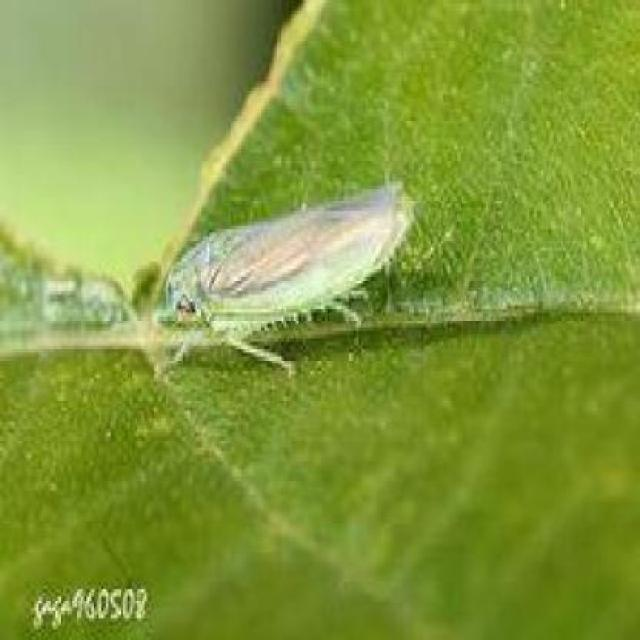green-leafhopper: (156, 189, 415, 377)
